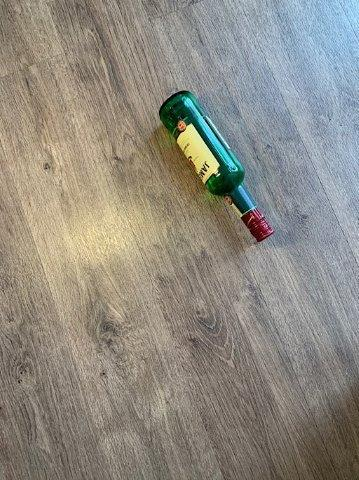botolkaca: (160, 91, 275, 243)
